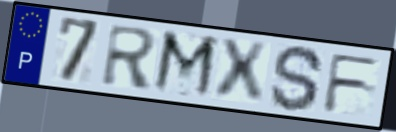7: (57, 14, 102, 85)
F: (321, 52, 383, 115)
M: (149, 28, 221, 102)
R: (99, 22, 160, 91)
S: (268, 43, 327, 114)
X: (214, 37, 270, 105)
